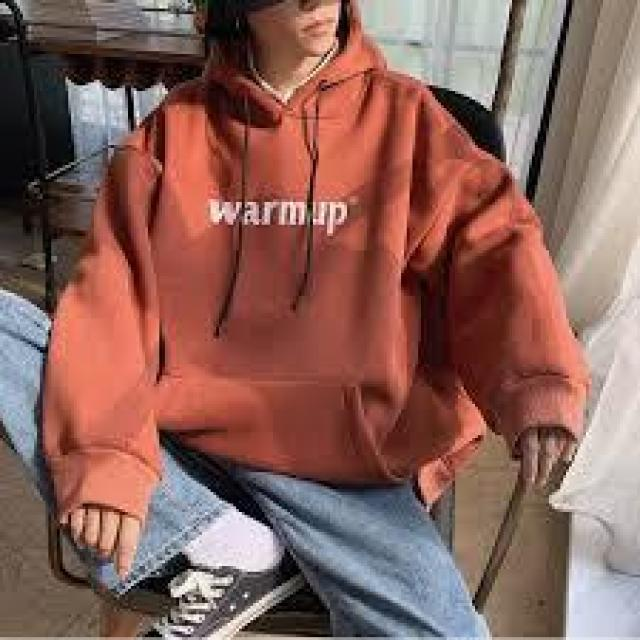sweater: (49, 68, 578, 518)
